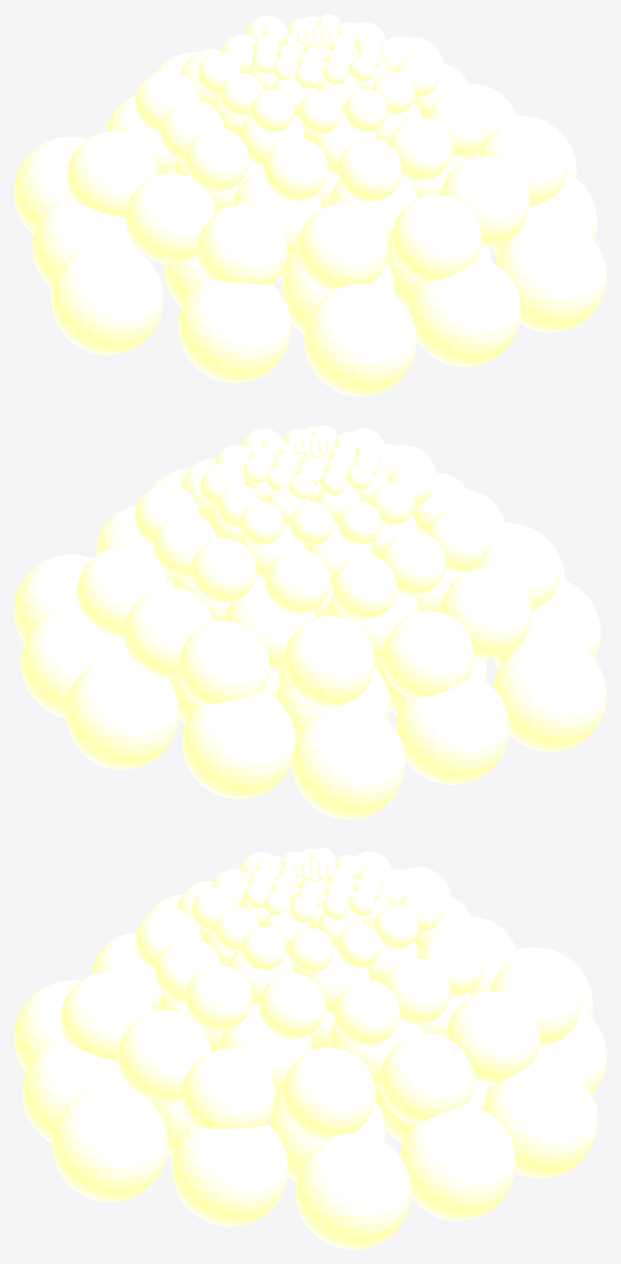
Rendered from cosmicdust.fbx.
The picture shows the model from 3 angles, top to bottom: view 1: azimuth 30°, elevation 25°; view 2: azimuth 150°, elevation 25°; view 3: azimuth 270°, elevation 25°; orthographic projection. The views are drawn at different scales.
Parts seen in each view (by area): view 1: Sphere, Sphere.001, Sphere.002, Sphere.003, Sphere.004, Sphere.005; view 2: Sphere, Sphere.001, Sphere.002, Sphere.003, Sphere.004, Sphere.005; view 3: Sphere, Sphere.001, Sphere.002, Sphere.003, Sphere.004, Sphere.005.
Part boxes in pixels (x1=…): Sphere: x1=14, y1=115, x2=606, y2=396; Sphere.001: x1=67, y1=52, x2=568, y2=291; Sphere.002: x1=135, y1=36, x2=490, y2=202; Sphere.003: x1=197, y1=16, x2=438, y2=134; Sphere.004: x1=252, y1=14, x2=382, y2=88; Sphere.005: x1=297, y1=25, x2=337, y2=48; Sphere: x1=14, y1=523, x2=606, y2=819; Sphere.001: x1=77, y1=468, x2=560, y2=707; Sphere.002: x1=135, y1=445, x2=491, y2=619; Sphere.003: x1=200, y1=426, x2=433, y2=545; Sphere.004: x1=243, y1=425, x2=381, y2=499; Sphere.005: x1=294, y1=435, x2=334, y2=458; Sphere: x1=14, y1=947, x2=606, y2=1249; Sphere.001: x1=60, y1=893, x2=582, y2=1140; Sphere.002: x1=135, y1=856, x2=484, y2=1046; Sphere.003: x1=192, y1=848, x2=443, y2=972; Sphere.004: x1=244, y1=848, x2=385, y2=922; Sphere.005: x1=293, y1=858, x2=335, y2=882.
Size of the model in its own units: 11.56 by 5.27 by 10.62.
